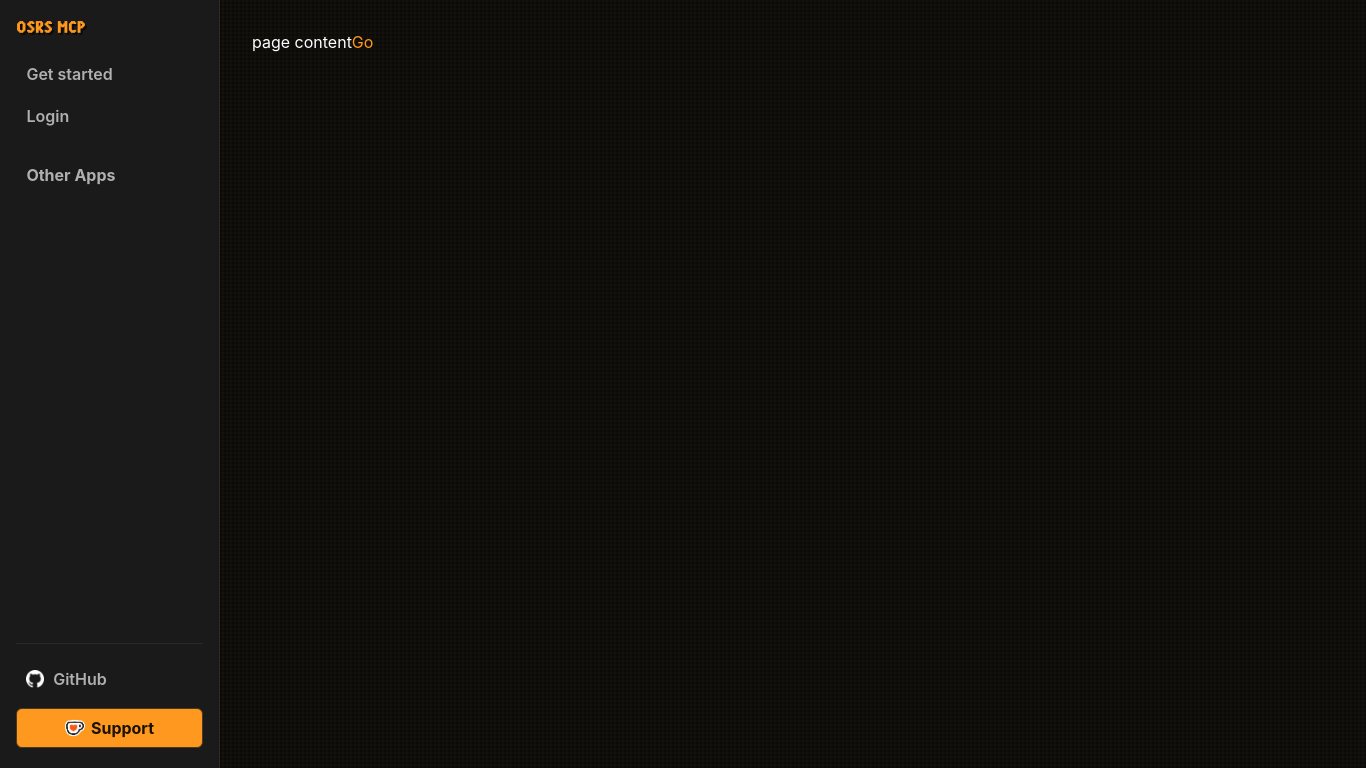
Test: AppShell › closes the sidebar automatically when the route changes
Earlier steps of the test are not shown.
Click the link "Go".
click(363, 42)  # box [352,32,373,52]
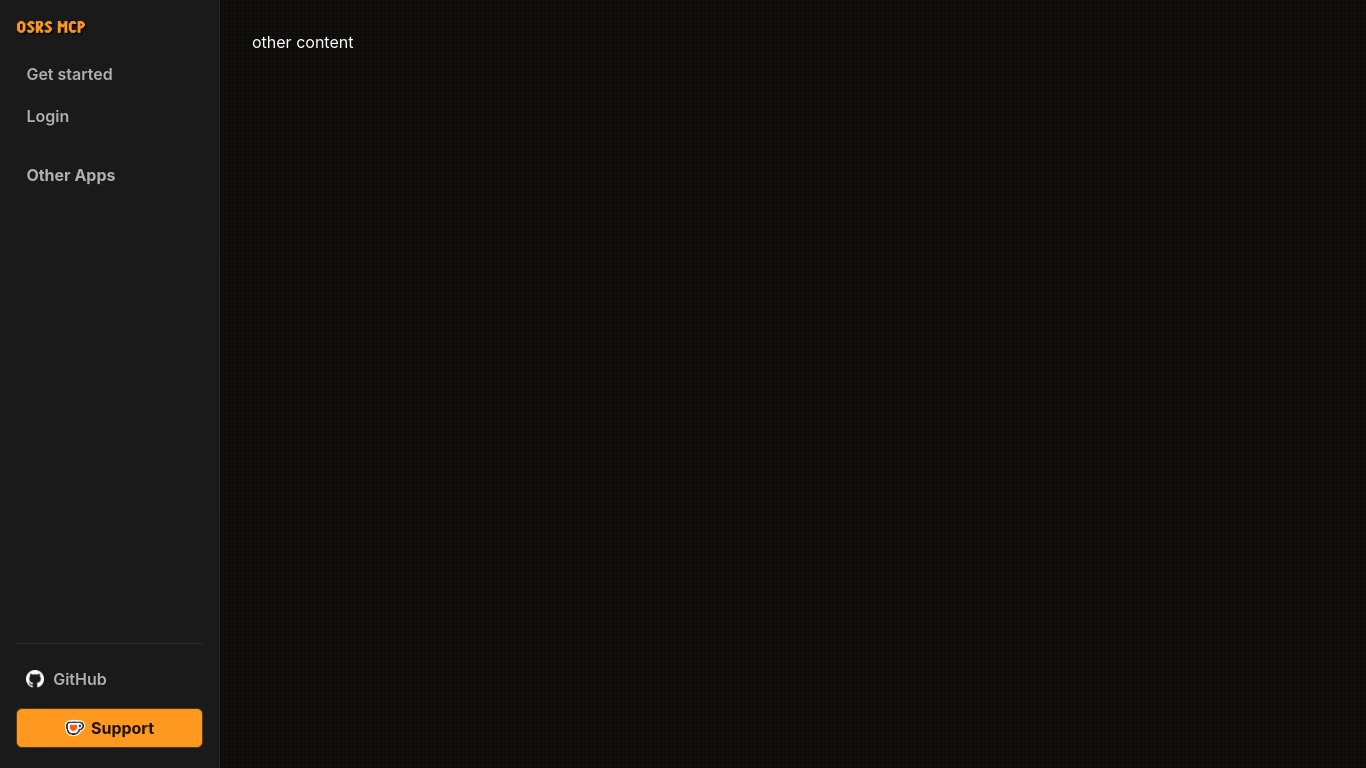
Now the text "other content" is shown, box [252,32,353,52]
